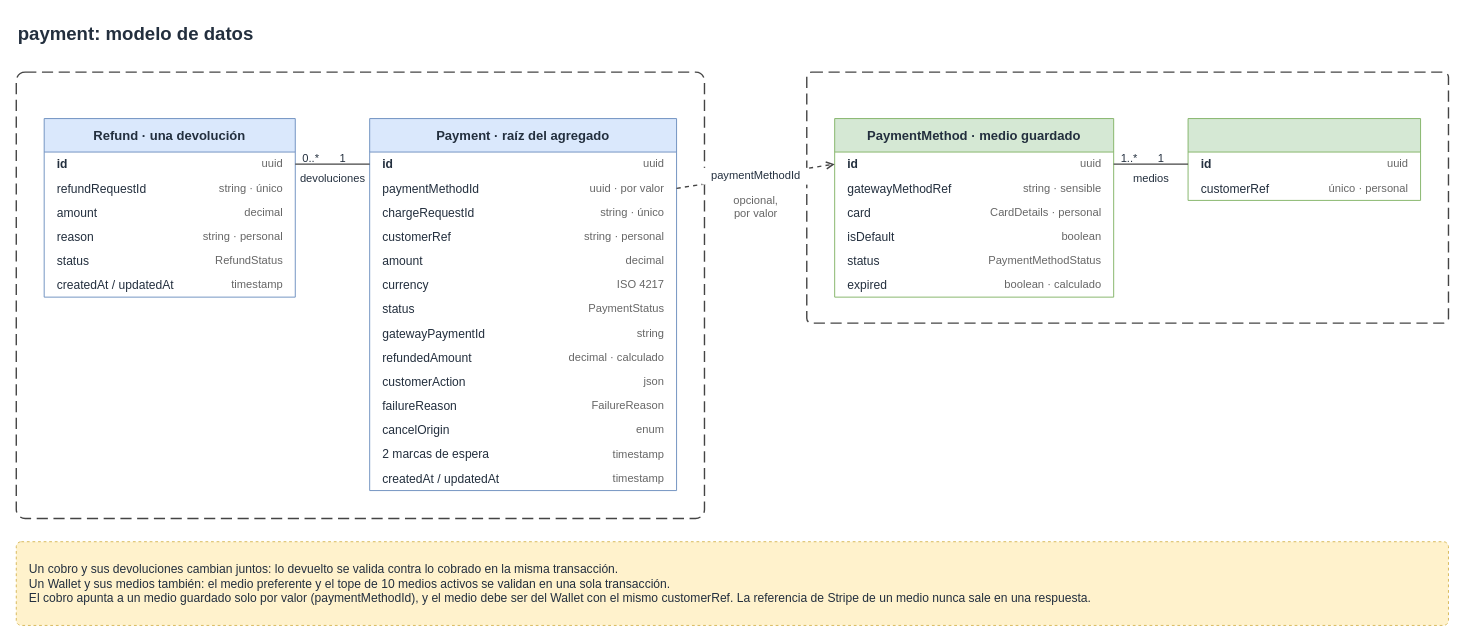
The diagram is 1466 pixels wide and 642 high, and some of its shapes have lost their labels. The shapes that lost their labels are listed below. From the top down, each one's box as (x1, y1, x2, y2) in pixels, then its label:
(1187, 118, 1421, 200): Wallet · raíz del agregado
(806, 71, 1449, 323): Agregado Wallet
(15, 71, 705, 519): Agregado Payment
